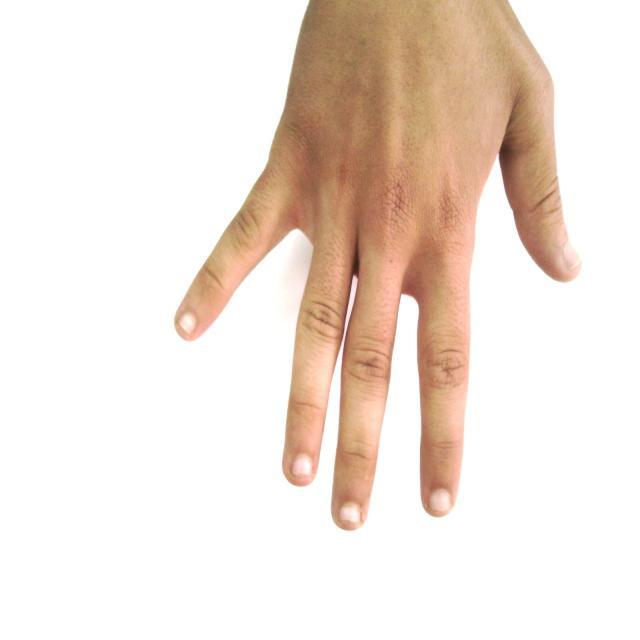Fingernail: (339, 503, 361, 527), (430, 489, 451, 514), (293, 455, 313, 479), (564, 244, 580, 268), (178, 313, 196, 333)
